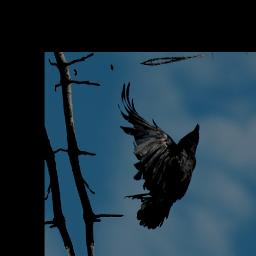Crow: (99, 71, 220, 231)
